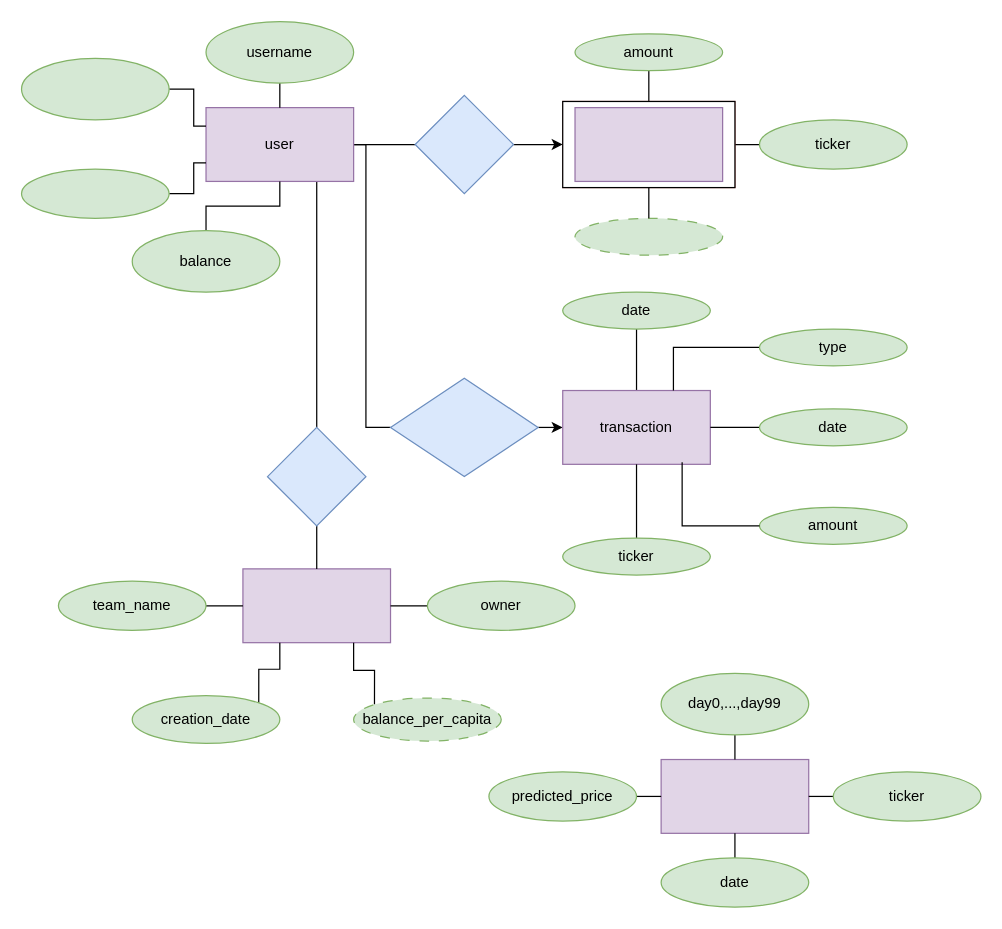
Image size: 1002x929. Some labels were removed from this diagram. The shapes that lost their labels are listed below. From the top down, each one's box as (x1, y1, x2, y2) in pixels, then its label:
(20, 57, 169, 120): hashed_password
(414, 94, 514, 194): owns
(574, 106, 723, 181): stock
(20, 168, 169, 218): email
(574, 217, 723, 255): value
(389, 377, 538, 477): transaction_history
(266, 426, 366, 526): members
(242, 568, 391, 643): Team
(660, 758, 809, 833): stock_history
